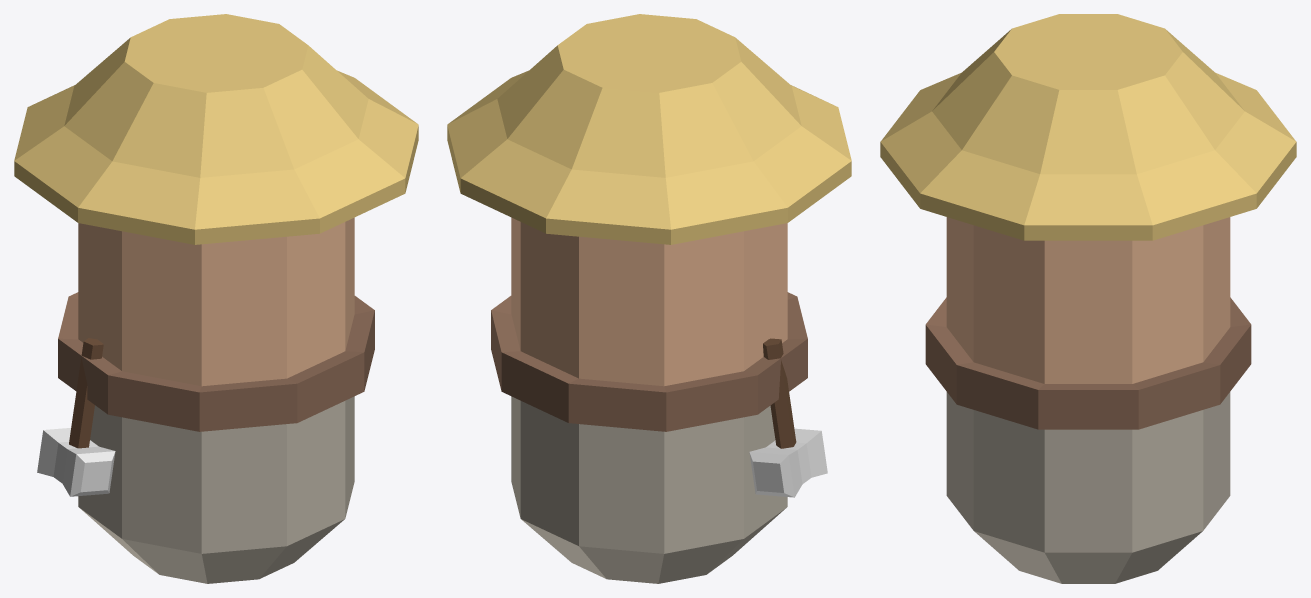
File: Smith 1.fbx
The picture shows the model from 3 angles, left to right: view 1: azimuth 30°, elevation 25°; view 2: azimuth 150°, elevation 25°; view 3: azimuth 270°, elevation 25°; orthographic projection.
Visible parts, largest first — view 1: Human, Hammer; view 2: Human, Hammer; view 3: Human.
Boxes of the visible parts, x1,y1,x2,y2 form: Human: [14, 14, 418, 583]; Hammer: [37, 338, 115, 496]; Human: [447, 14, 851, 583]; Hammer: [749, 338, 827, 497]; Human: [880, 14, 1296, 583].
Size of the model in its own units: 279 by 387 by 293.
